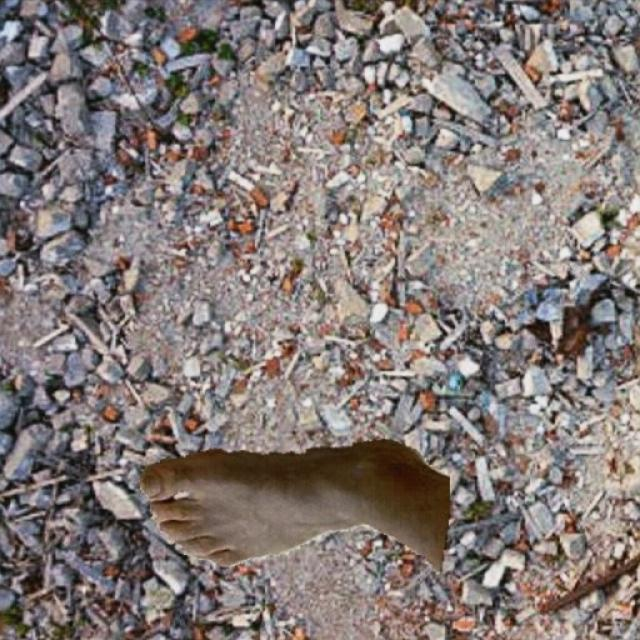Person in Rubble: (138, 438, 448, 572)
